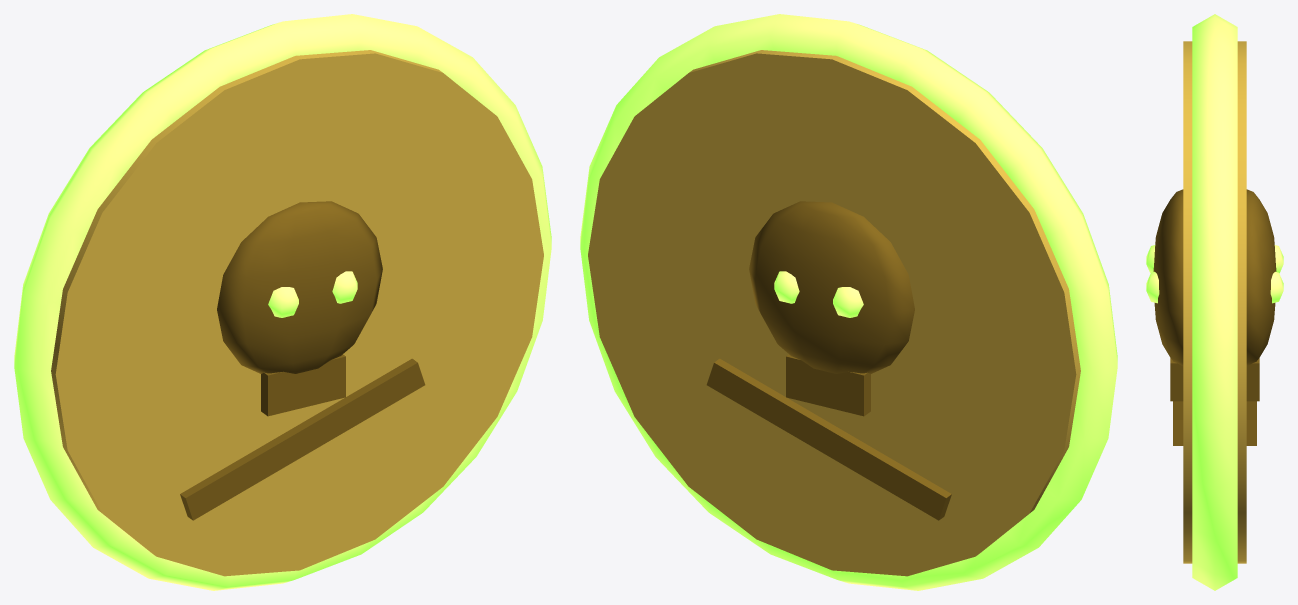
Rendered from cursed-doubloon.glb.
3 renders of one model, left to right at view 1: azimuth 30°, elevation 25°; view 2: azimuth 150°, elevation 25°; view 3: azimuth 270°, elevation 25°, orthographic. The views are drawn at different scales.
Visible parts, largest first — view 1: Mesh_Disc, Mesh_Rim, Mesh_SkullF, Mesh_BonesF, Mesh_JawF, Mesh_EyeFL; view 2: Mesh_Disc, Mesh_Rim, Mesh_SkullB, Mesh_BonesB, Mesh_JawB, Mesh_EyeBL; view 3: Mesh_Rim, Mesh_Disc, Mesh_SkullF, Mesh_SkullB, Mesh_JawF, Mesh_JawB, Mesh_BonesF, Mesh_BonesB, Mesh_EyeFR, Mesh_EyeBR.
Boxes of the visible parts, x1,y1,x2,y2 form: Mesh_Disc: [51, 50, 543, 576]; Mesh_Rim: [14, 14, 551, 590]; Mesh_SkullF: [217, 201, 382, 373]; Mesh_BonesF: [180, 358, 425, 520]; Mesh_JawF: [261, 354, 345, 416]; Mesh_EyeFL: [268, 287, 298, 317]; Mesh_Disc: [588, 50, 1080, 576]; Mesh_Rim: [580, 14, 1117, 590]; Mesh_SkullB: [749, 201, 914, 373]; Mesh_BonesB: [706, 358, 951, 520]; Mesh_JawB: [786, 354, 870, 416]; Mesh_EyeBL: [833, 287, 863, 317]; Mesh_Rim: [1192, 14, 1237, 590]; Mesh_Disc: [1183, 41, 1246, 563]; Mesh_SkullF: [1153, 189, 1183, 365]; Mesh_SkullB: [1246, 189, 1276, 365]; Mesh_JawF: [1170, 358, 1183, 401]; Mesh_JawB: [1246, 358, 1259, 401]; Mesh_BonesF: [1173, 401, 1183, 445]; Mesh_BonesB: [1246, 401, 1256, 445]; Mesh_EyeFR: [1146, 271, 1159, 303]; Mesh_EyeBR: [1270, 271, 1283, 303].
Size of the model in its own units: 1.1 by 1.1 by 0.2606.
